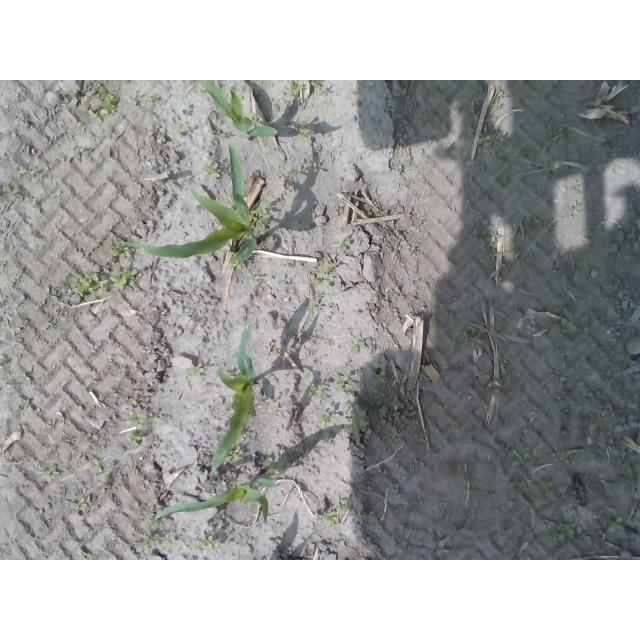Maize: (122, 143, 259, 264), (210, 319, 257, 473), (154, 475, 279, 525), (197, 80, 280, 142)
Weeds: (69, 269, 137, 295), (477, 131, 519, 169), (323, 498, 361, 527), (90, 86, 121, 120), (128, 413, 161, 444), (616, 449, 640, 490), (311, 259, 337, 289), (502, 446, 541, 466), (479, 229, 500, 264), (253, 203, 271, 234), (0, 182, 24, 205), (348, 408, 370, 433), (527, 481, 554, 501), (193, 535, 220, 554), (263, 457, 289, 476), (543, 124, 566, 144), (92, 457, 112, 480), (605, 513, 625, 535), (288, 161, 319, 175), (202, 158, 221, 178), (554, 523, 575, 541), (546, 163, 571, 178), (75, 544, 98, 560), (311, 80, 331, 97), (464, 100, 481, 120), (462, 324, 483, 340), (42, 464, 61, 480), (128, 95, 161, 104), (336, 374, 353, 391), (110, 245, 130, 259), (308, 382, 326, 397), (561, 321, 579, 336), (298, 121, 311, 141), (188, 363, 205, 378), (291, 81, 306, 96), (512, 260, 529, 273), (578, 256, 591, 273), (315, 415, 335, 426), (111, 179, 129, 191), (526, 215, 543, 227), (581, 399, 595, 413), (143, 538, 158, 551), (19, 165, 38, 175), (352, 339, 365, 353), (621, 356, 635, 369), (162, 536, 175, 550), (71, 497, 85, 510), (170, 124, 185, 136), (373, 371, 385, 386), (383, 430, 401, 440), (150, 519, 166, 530), (391, 542, 408, 552), (574, 176, 582, 193), (215, 129, 226, 140), (227, 449, 239, 459), (337, 239, 352, 246), (53, 192, 64, 201), (248, 114, 257, 124), (376, 210, 389, 216), (379, 405, 386, 416), (489, 104, 497, 113), (308, 304, 317, 312), (285, 99, 293, 107), (69, 91, 78, 98), (233, 261, 240, 268), (241, 435, 248, 442)
